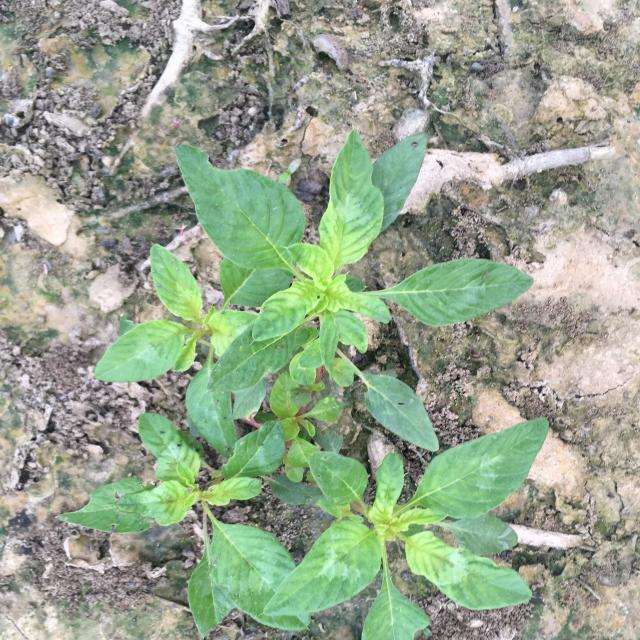PalmerAmaranth: (57, 128, 550, 640)
